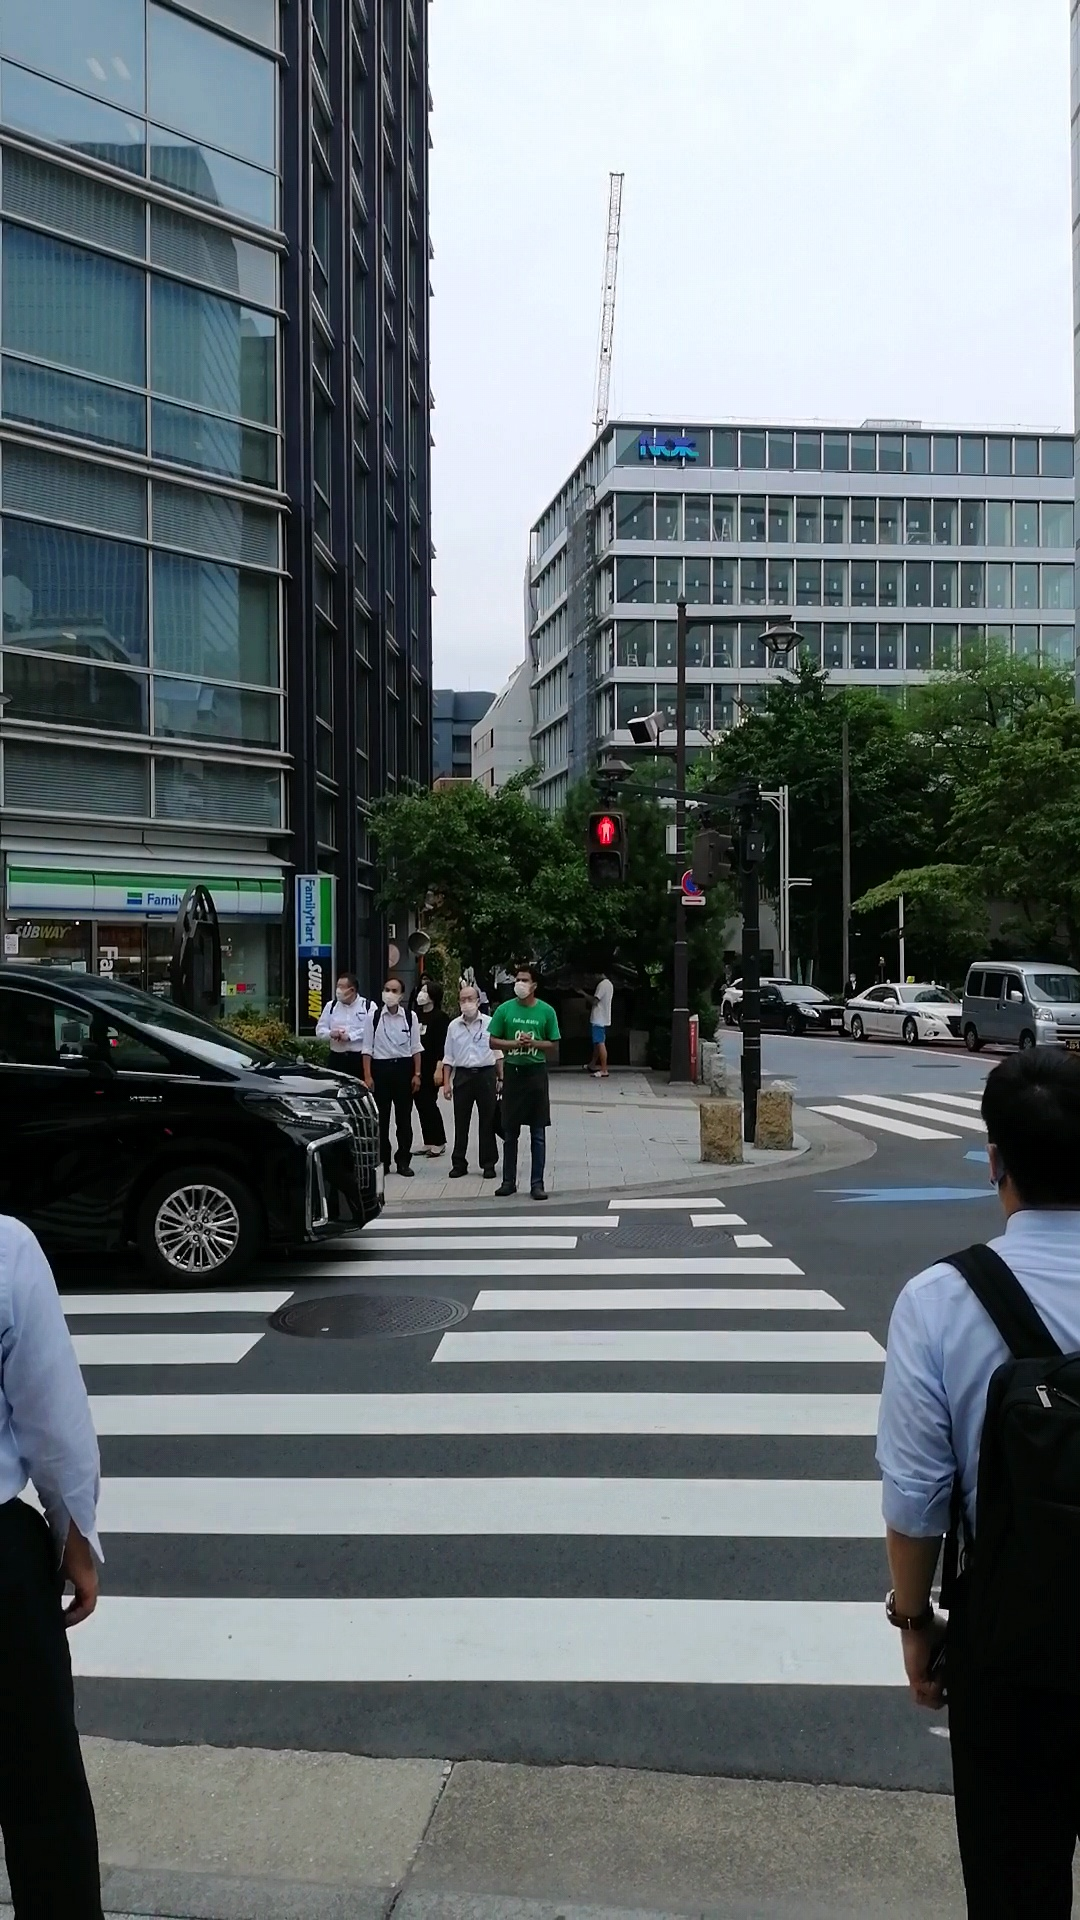red: (585, 810, 624, 886)
